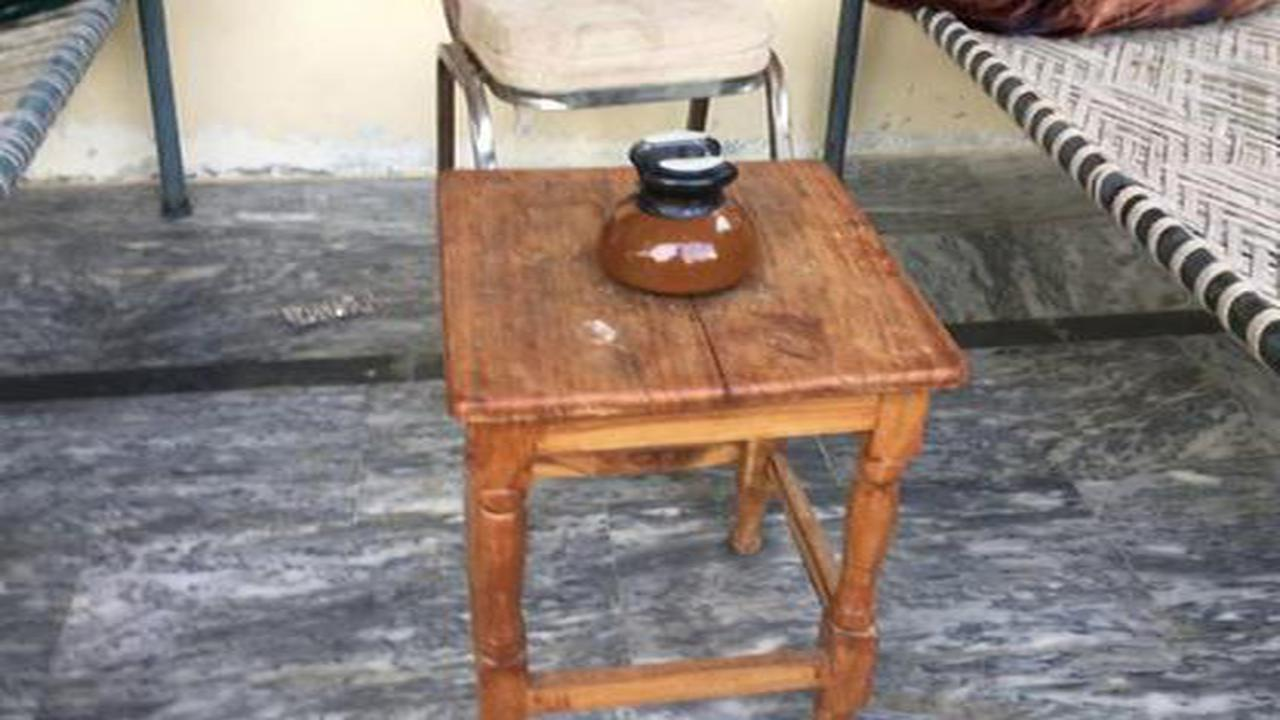insulator_pin: (573, 118, 797, 307)
